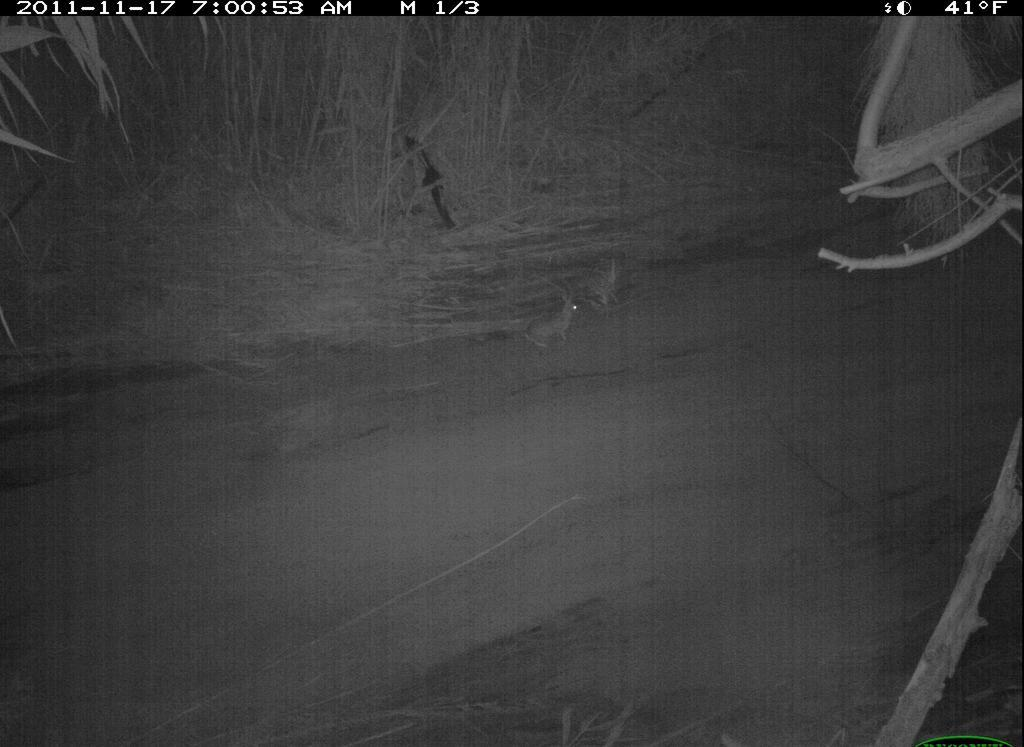rabbit: (506, 248, 620, 381)
